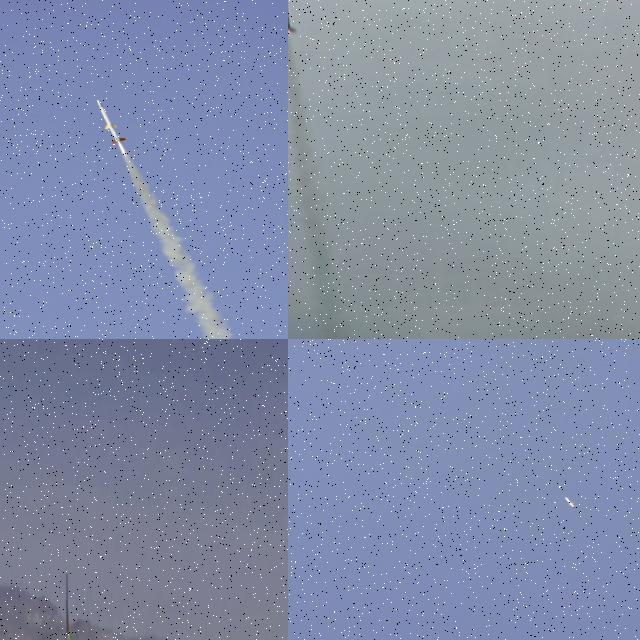Rocket: (96, 99, 127, 145), (288, 0, 296, 32), (64, 608, 71, 640), (564, 497, 578, 510)
